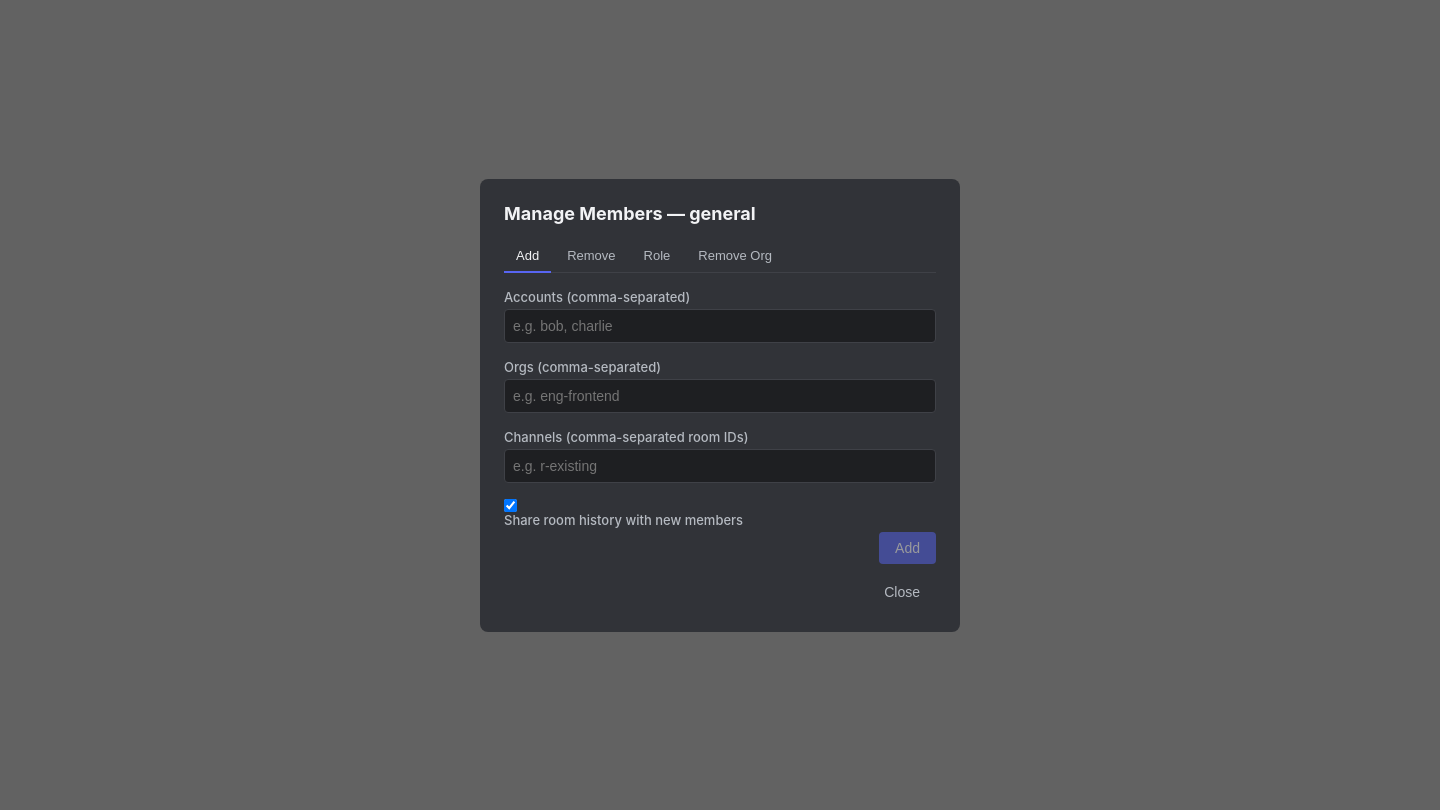
it: ManageMembersDialog › switches tabs when a tab button is clicked
This screenshot has width=1440, height=810.
Click the tab "Remove" at point(591, 256), box [555,240,628,272]
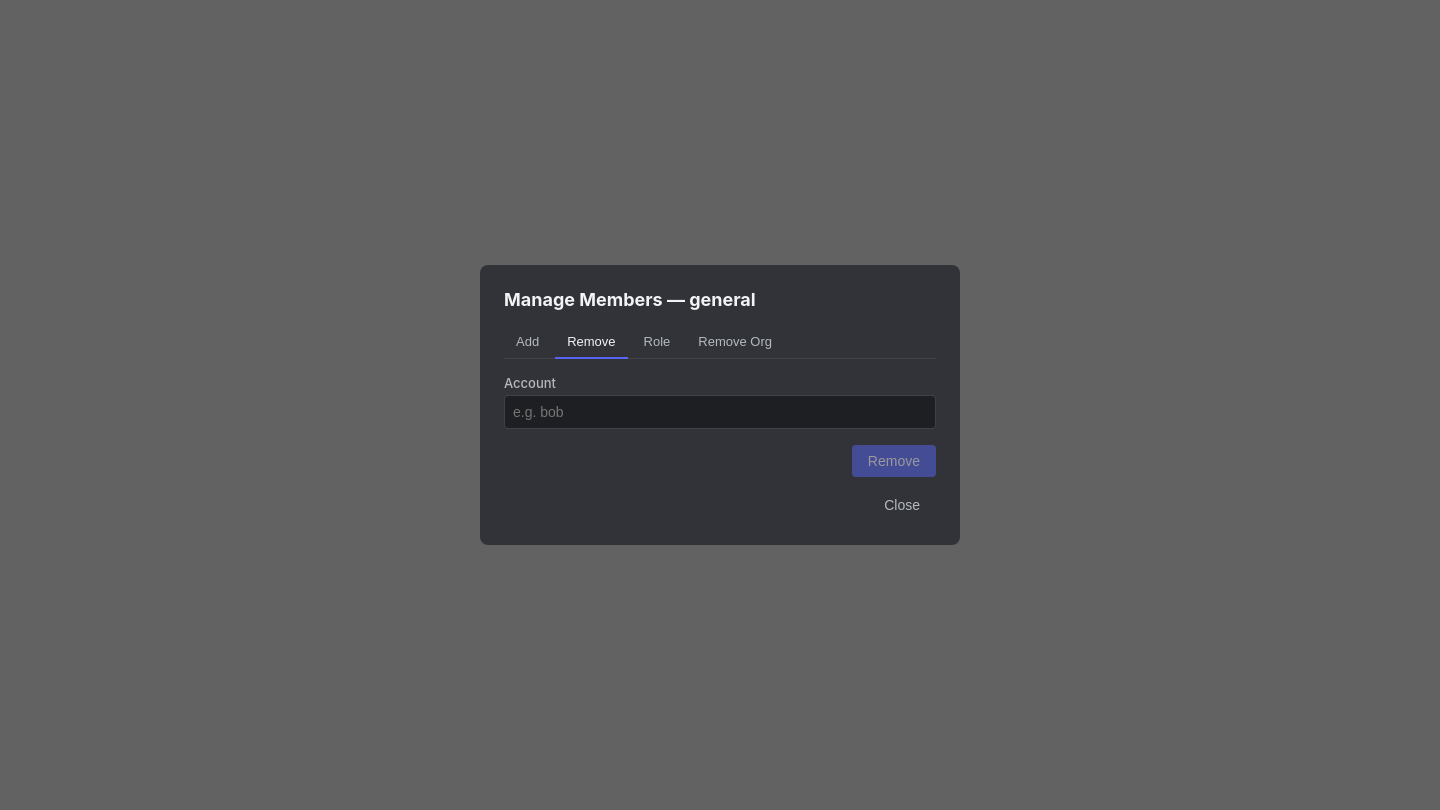
Expected: the field labelled "Account" is shown, [504,395,936,429]
Expected: the label labelled "Accounts (comma-separated)" is gone
Click the tab "Role" at point(657, 342), box [632,326,682,359]
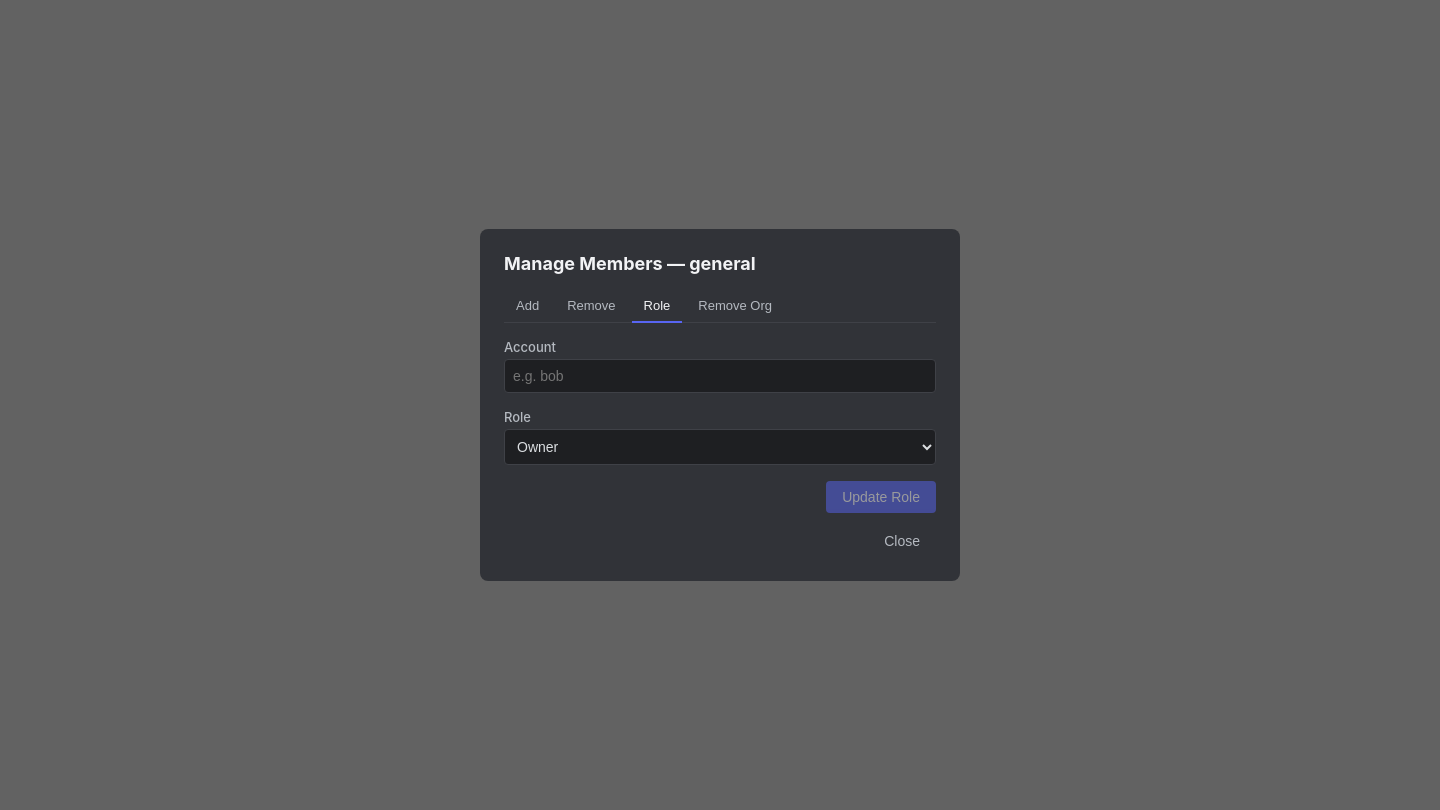
Expected: the dropdown labelled "Role" is shown, [504,429,936,465]
Click the tab "Remove Org" at point(735, 306), box [686,290,784,323]
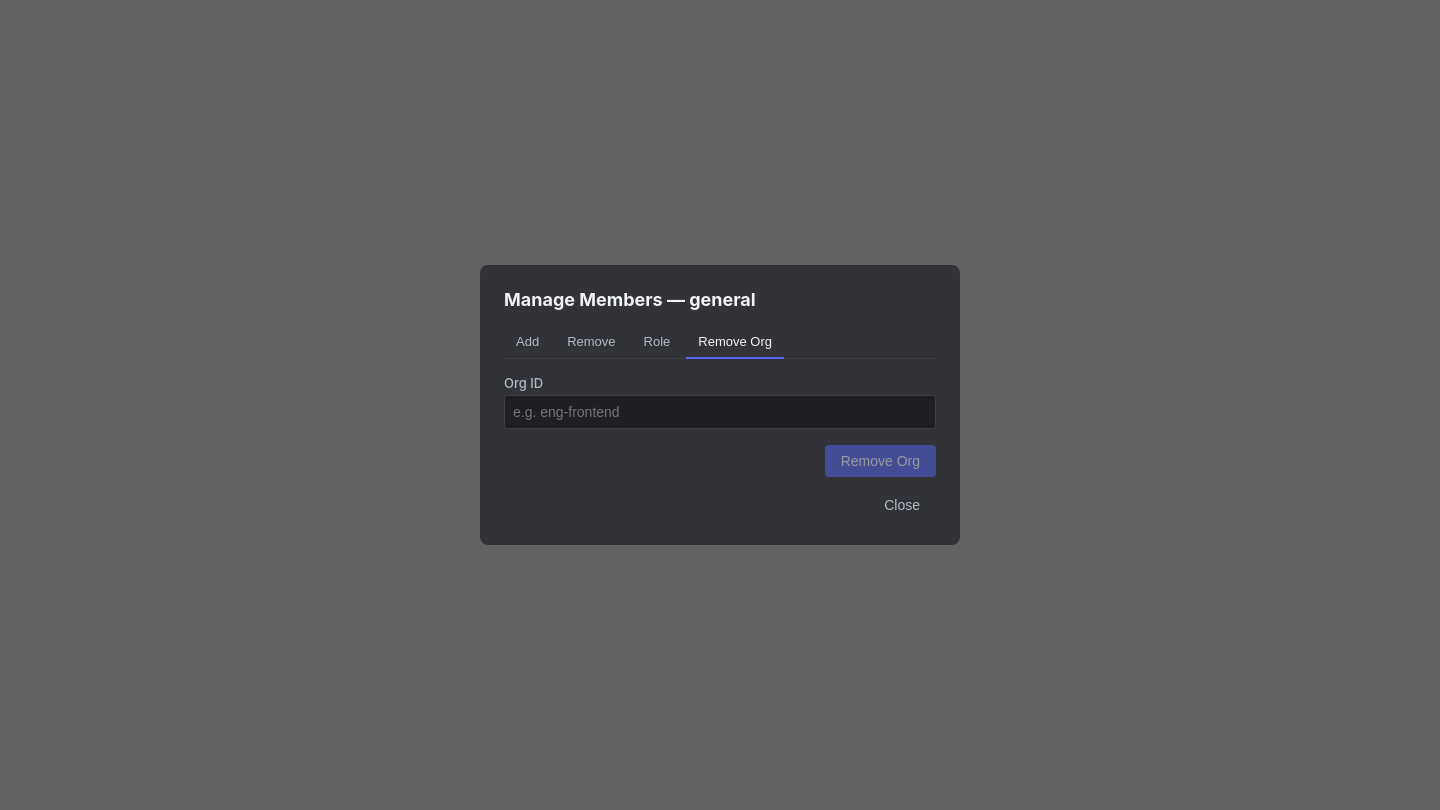
Expected: the field labelled "Org ID" is shown, [504,395,936,429]
